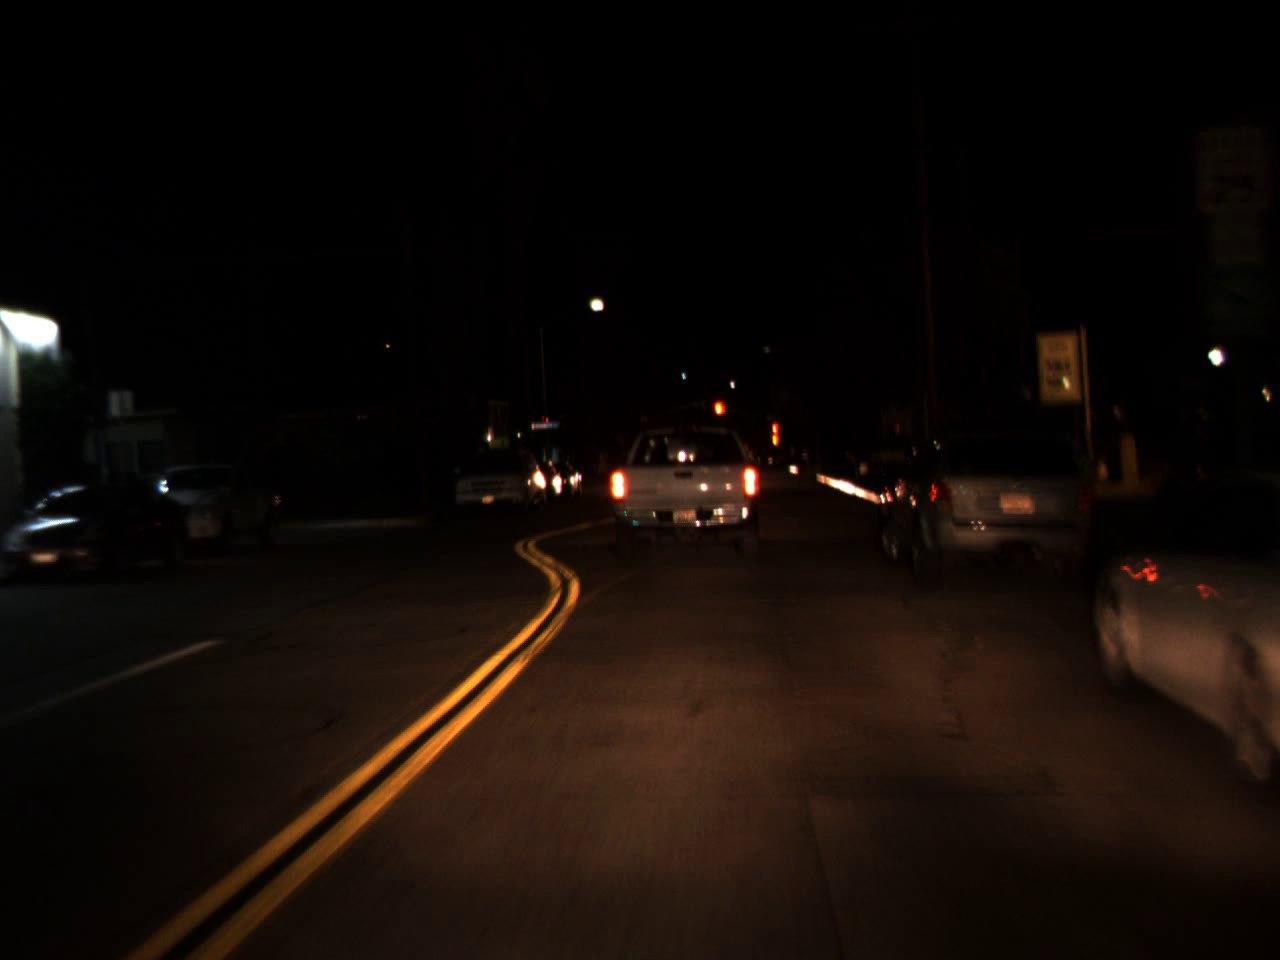stop: (712, 399, 725, 431), (767, 419, 782, 446)
